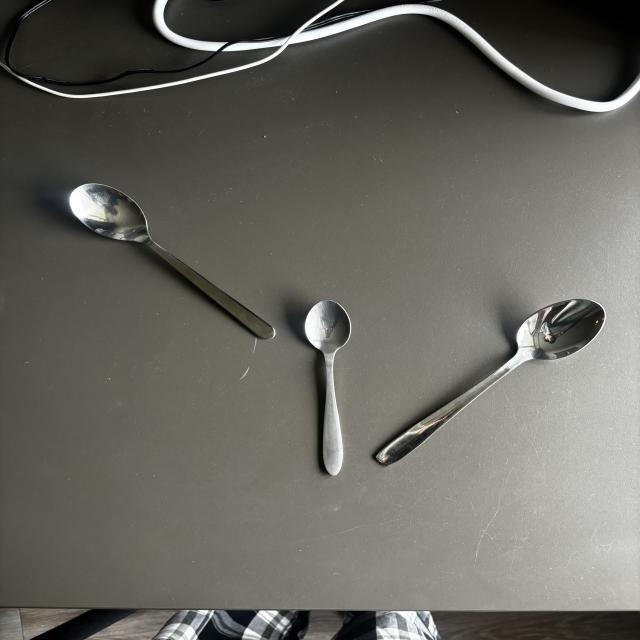spoon: (372, 299, 608, 468), (67, 185, 273, 342), (301, 299, 353, 479)
